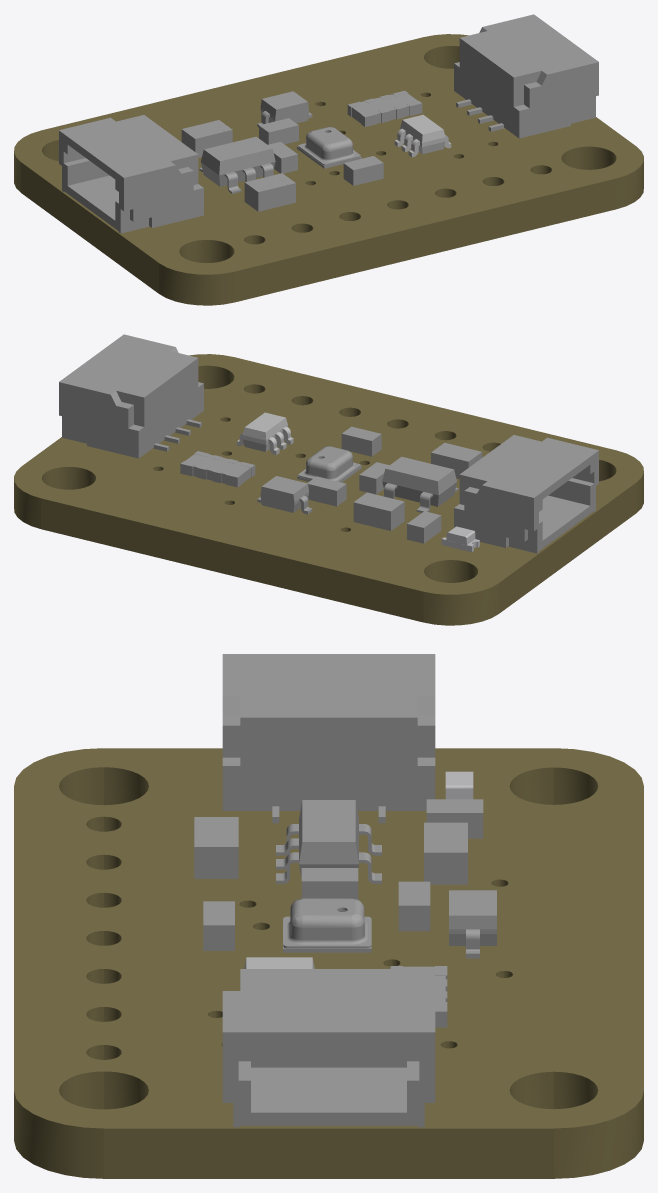
The model's file is ada-2652.glb.
The picture shows the model from 3 angles, top to bottom: view 1: azimuth 30°, elevation 25°; view 2: azimuth 150°, elevation 25°; view 3: azimuth 270°, elevation 25°; orthographic projection. The views are drawn at different scales.
Parts seen in each view (by area): view 1: 0.16666666666666666_0.16666666666666666_0.08333333333333333_, 0.3333333333333333_0.3333333333333333_0.3333333333333333_0, 0.5_0.5_0.5_0.85; view 2: 0.16666666666666666_0.16666666666666666_0.08333333333333333_, 0.3333333333333333_0.3333333333333333_0.3333333333333333_0, 0.5_0.5_0.5_0.85, 0.5833333333333334_0.5833333333333334_0.5833333333333334_0.8; view 3: 0.16666666666666666_0.16666666666666666_0.08333333333333333_, 0.3333333333333333_0.3333333333333333_0.3333333333333333_0, 0.5833333333333334_0.5833333333333334_0.5833333333333334_0.8, 0.5_0.5_0.5_0.85.
Part boxes in pixels (x1,y1,x2,y2): 0.16666666666666666_0.16666666666666666_0.08333333333333333_: (14,34,643,305); 0.3333333333333333_0.3333333333333333_0.3333333333333333_0: (59,14,598,233); 0.5_0.5_0.5_0.85: (394,114,451,157); 0.16666666666666666_0.16666666666666666_0.08333333333333333_: (14,354,643,625); 0.3333333333333333_0.3333333333333333_0.3333333333333333_0: (59,334,598,553); 0.5_0.5_0.5_0.85: (237,412,293,455); 0.5833333333333334_0.5833333333333334_0.5833333333333334_0.8: (441,526,479,552); 0.16666666666666666_0.16666666666666666_0.08333333333333333_: (14,748,643,1178); 0.3333333333333333_0.3333333333333333_0.3333333333333333_0: (194,654,496,1127); 0.5833333333333334_0.5833333333333334_0.5833333333333334_0.8: (445,771,473,799); 0.5_0.5_0.5_0.85: (244,957,314,968).
Bounding box in the file's own units: 2.54 × 0.4529 × 1.78.
